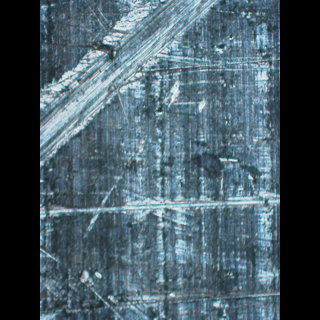d: (40, 0, 221, 167), (42, 171, 279, 222)
